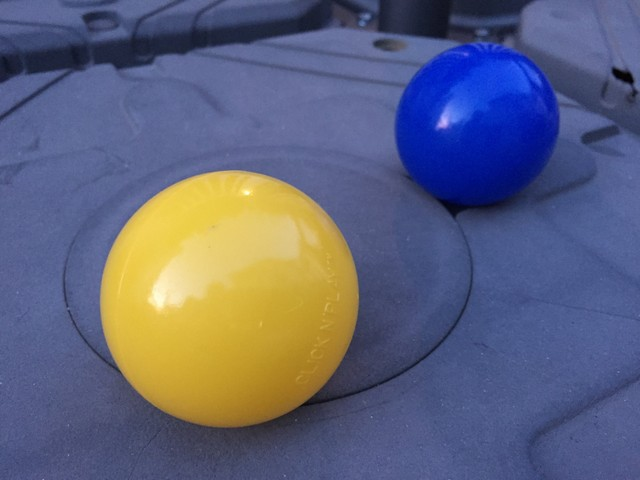Ball: (98, 170, 360, 422)
